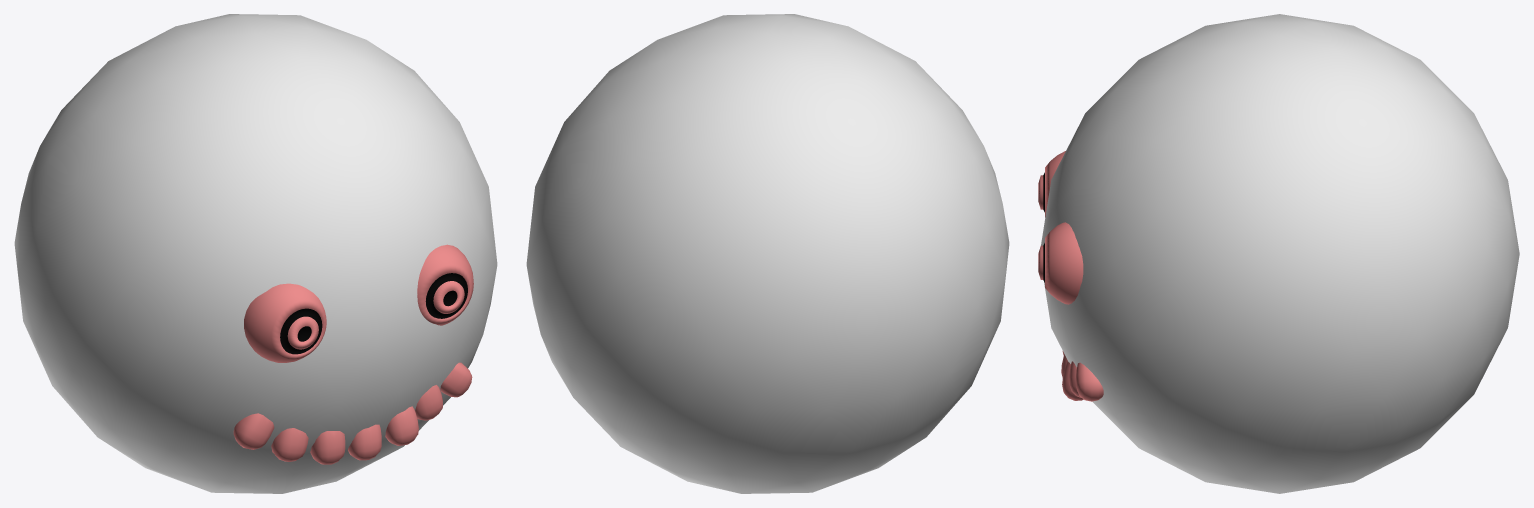
The model's file is craigmarble.fbx.
3 renders of one model, left to right at view 1: azimuth 30°, elevation 25°; view 2: azimuth 150°, elevation 25°; view 3: azimuth 270°, elevation 25°, orthographic.
Parts seen in each view (by area): view 1: Icosphere.002, Sphere.001, Cube.008; view 2: Icosphere.002; view 3: Icosphere.002, Sphere.001, Cube.008.
Part boxes in pixels (bbox=[...]): Icosphere.002: bbox=[14, 14, 497, 493]; Sphere.001: bbox=[244, 244, 473, 362]; Cube.008: bbox=[233, 362, 472, 464]; Icosphere.002: bbox=[526, 14, 1009, 493]; Icosphere.002: bbox=[1041, 14, 1519, 493]; Sphere.001: bbox=[1038, 151, 1083, 304]; Cube.008: bbox=[1061, 351, 1103, 401].
Size of the model in its own units: 65.39 by 65.39 by 65.57.
